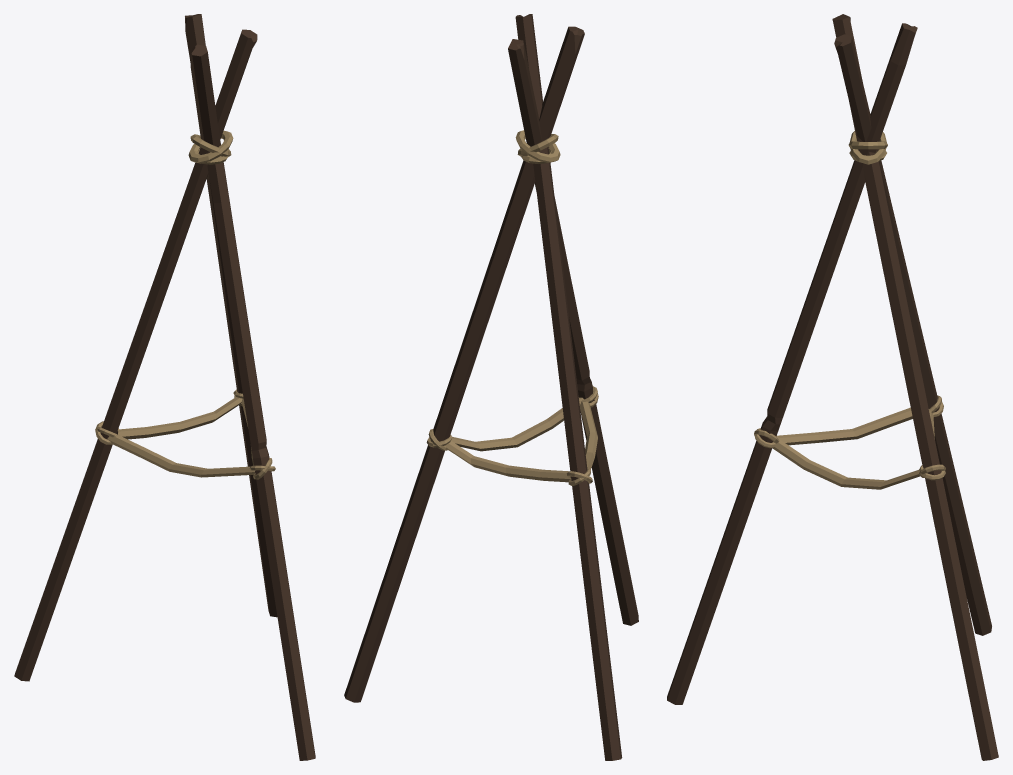
The model's file is Bonfire_01.gltf.
The picture shows the model from 3 angles, left to right: view 1: azimuth 30°, elevation 25°; view 2: azimuth 150°, elevation 25°; view 3: azimuth 270°, elevation 25°; orthographic projection. The views are drawn at different scales.
Parts seen in each view (by area): view 1: bonfire; view 2: bonfire; view 3: bonfire.
Part boxes in pixels (bbox=[...]): bonfire: bbox=[14, 14, 315, 760]; bonfire: bbox=[344, 14, 638, 760]; bonfire: bbox=[667, 14, 998, 760].
Size of the model in its own units: 0.4132 by 0.959 by 0.4257.
Materials: 1 (1 with a texture image).
